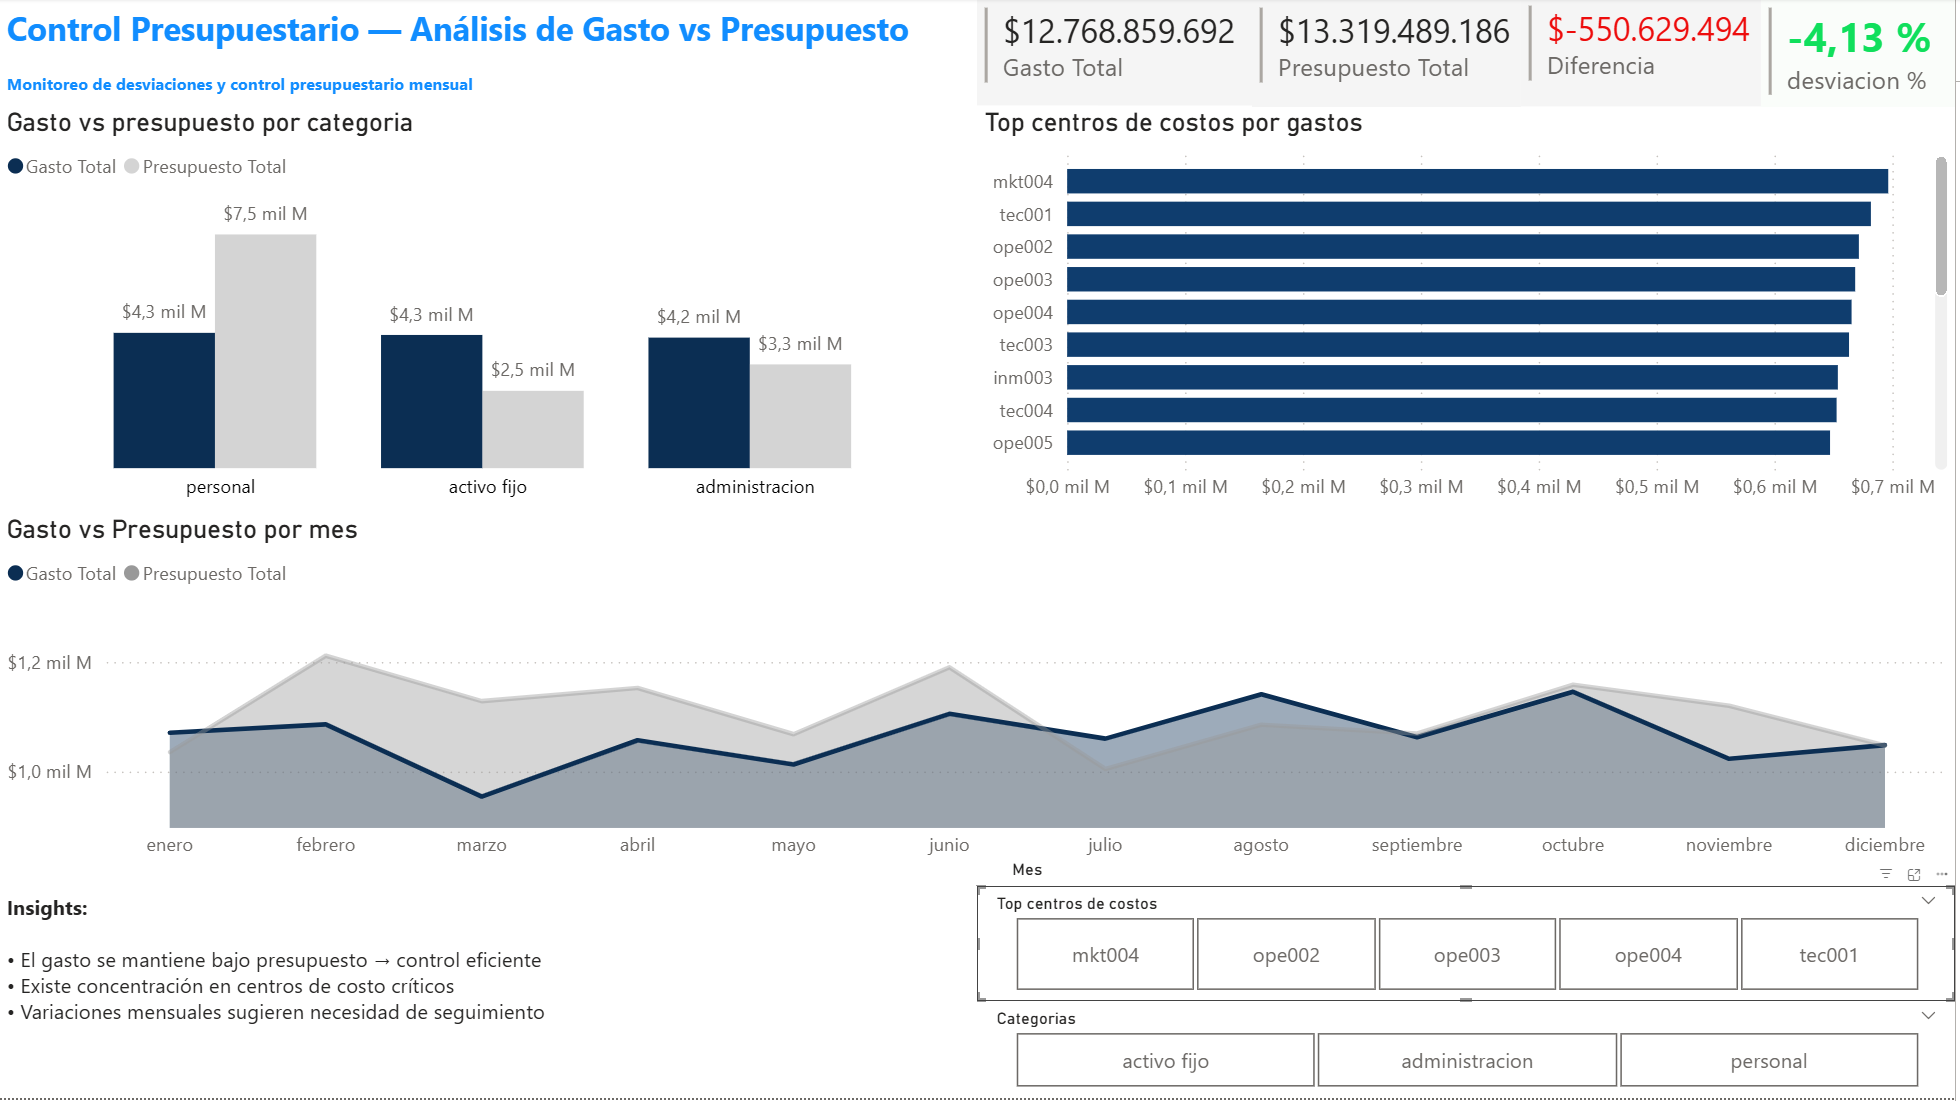

The dashboard page shown, as its layout file describes it:
{"tool":"powerbi","page":{"name":"Gastos vs presupuesto","canvas":[1280,720],"ordinal":0},"visuals":[{"type":"multiRowCard","fields":{"Values":["Gastos.Gasto Total"]},"box":[640,1.3,180,68.7],"z":0},{"type":"multiRowCard","fields":{"Values":["Gastos.Presupuesto Total"]},"box":[820,1.3,176,70],"z":1000},{"type":"multiRowCard","fields":{"Values":["Gastos.Diferencia"]},"box":[996,0,157.1,71.3],"z":2000},{"type":"multiRowCard","fields":{"Values":["Gastos.% Variacion"]},"box":[1153,1.3,127,70],"z":3000},{"type":"clusteredColumnChart","title":"Gasto vs presupuesto por categoria","fields":{"Y":["Gastos.Gasto Total","Gastos.Presupuesto Total"],"Category":["Gastos.categoria_limpia"]},"box":[0,71.3,640,266.3],"z":4000},{"type":"barChart","title":"Top centros de costos por gastos","fields":{"Category":["Gastos.centro_costo"],"Y":["Gastos.Gasto Total"]},"box":[640,71.3,640,266.3],"z":5000},{"type":"lineChart","title":"Gasto vs Presupuesto por mes","fields":{"Category":["Gastos.Mes.Variación.Jerarquía de fechas.Año","Gastos.Mes.Variación.Jerarquía de fechas.Mes"],"Y":["Gastos.Gasto Total","Gastos.Presupuesto Total"]},"box":[0,337.7,1280,243.4],"z":6000},{"type":"slicer","fields":{"Values":["Gastos.categoria_limpia"]},"box":[640,656.4,640,63.5],"z":7000},{"type":"slicer","title":"Centro","fields":{"Values":["Gastos.centro_costo"]},"box":[640,581.1,640,69.4],"z":9000},{"type":"textbox","box":[0,0,640,41.2],"z":10000},{"type":"textbox","box":[0,581.1,640,138.7],"z":11000},{"type":"textbox","box":[0,41.2,640,30.1],"z":12000}]}

Visuals, with their boxes in screenshot pixels (x1, y1, x2, y2), scaled from the page's 1280x720 canvas onto the 1960x1101 screenshot:
multiRowCard - Gastos.Gasto Total: crop(980, 2, 1256, 107)
multiRowCard - Gastos.Presupuesto Total: crop(1256, 2, 1525, 109)
multiRowCard - Gastos.Diferencia: crop(1525, 0, 1766, 109)
multiRowCard - Gastos.% Variacion: crop(1766, 2, 1959, 109)
"Gasto vs presupuesto por categoria" clusteredColumnChart: crop(0, 109, 980, 516)
"Top centros de costos por gastos" barChart: crop(980, 109, 1959, 516)
"Gasto vs Presupuesto por mes" lineChart: crop(0, 516, 1959, 889)
slicer - Gastos.categoria_limpia: crop(980, 1004, 1959, 1100)
"Centro" slicer: crop(980, 889, 1959, 995)
textbox: crop(0, 0, 980, 63)
textbox: crop(0, 889, 980, 1100)
textbox: crop(0, 63, 980, 109)
